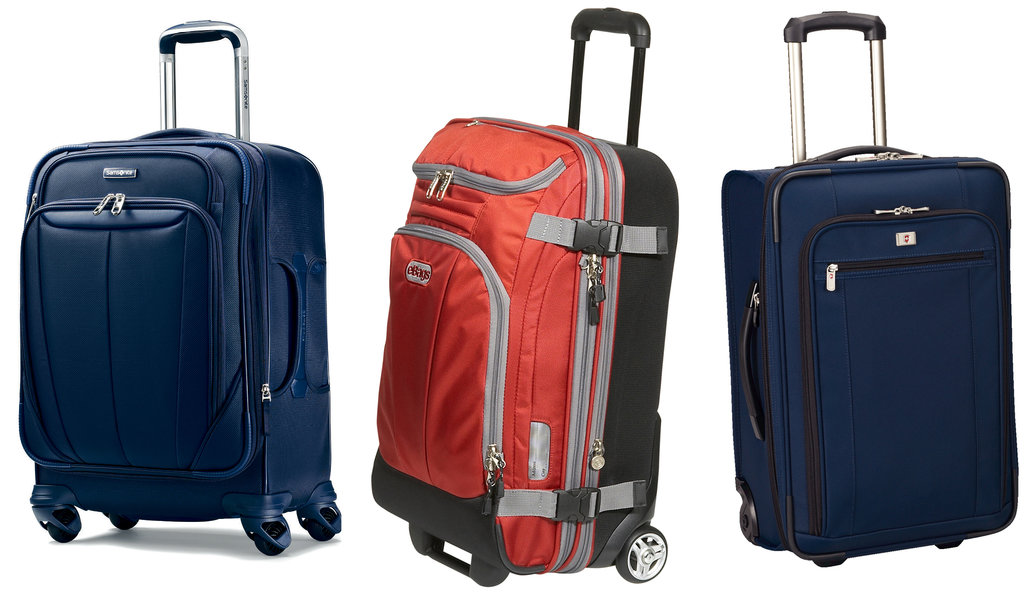luggage: (361, 1, 684, 588), (9, 15, 350, 566), (711, 6, 1024, 577)
